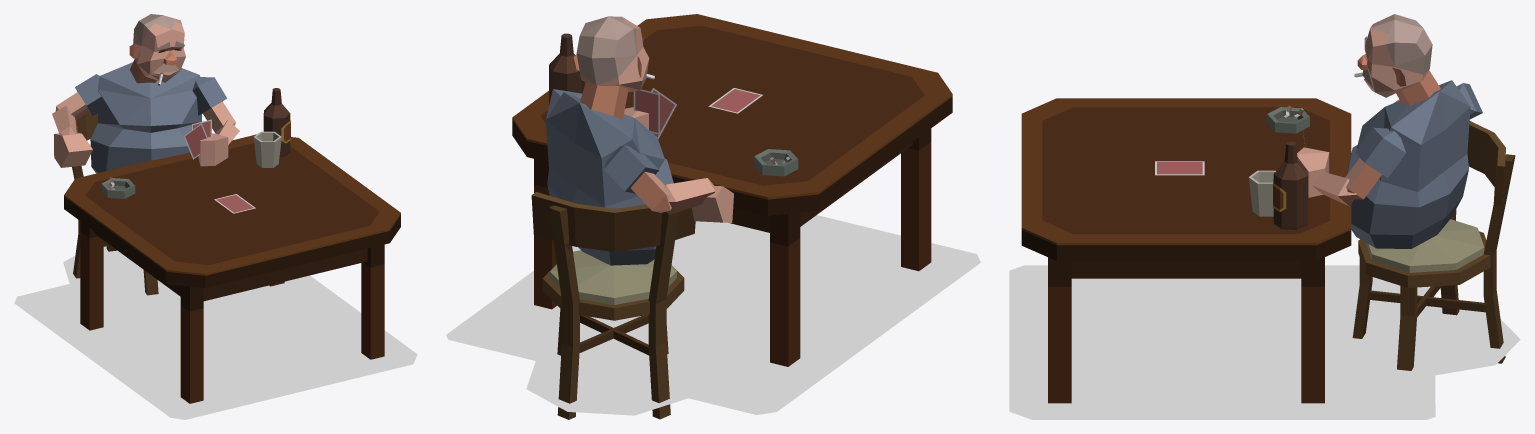
The model's file is Gameplay_Assets.fbx.
3 views of the same model, side by side, from view 1: azimuth 30°, elevation 25°; view 2: azimuth 150°, elevation 25°; view 3: azimuth 270°, elevation 25° (orthographic). The views are drawn at different scales.
Visible parts, largest first — view 1: Mesh_GameplayTable01, Mesh_GameplayGroundShadow, Mesh_Character01, Mesh_GameplayChair01, Mesh_Beer01, Mesh_Glass01, Mesh_BarAshtray01, Mesh_Card01.001, Mesh_Card01; view 2: Mesh_GameplayTable01, Mesh_GameplayGroundShadow, Mesh_Character01, Mesh_GameplayChair01, Mesh_Beer01, Mesh_BarAshtray01, Mesh_Card01.002, Mesh_Card01; view 3: Mesh_GameplayTable01, Mesh_GameplayGroundShadow, Mesh_Character01, Mesh_GameplayChair01, Mesh_Beer01, Mesh_Glass01, Mesh_BarAshtray01, Mesh_Card01.
Boxes of the visible parts, x1,y1,x2,y2 form: Mesh_GameplayTable01: (64,134,400,403); Mesh_GameplayGroundShadow: (14,246,417,419); Mesh_Character01: (52,14,239,173); Mesh_GameplayChair01: (72,112,158,295); Mesh_Beer01: (263,88,290,157); Mesh_Glass01: (253,131,281,167); Mesh_BarAshtray01: (101,177,135,198); Mesh_Card01.001: (183,123,207,159); Mesh_Card01: (214,194,255,213); Mesh_GameplayTable01: (512,14,952,366); Mesh_GameplayGroundShadow: (446,215,980,415); Mesh_Character01: (546,16,733,265); Mesh_GameplayChair01: (531,192,695,419); Mesh_Beer01: (549,33,584,105); Mesh_BarAshtray01: (754,149,798,176); Mesh_Card01.002: (633,89,659,134); Mesh_Card01: (708,88,762,113); Mesh_GameplayTable01: (1021,98,1351,403); Mesh_GameplayGroundShadow: (1009,265,1520,419); Mesh_Character01: (1297,14,1482,248); Mesh_GameplayChair01: (1352,121,1515,370); Mesh_Beer01: (1273,141,1307,229); Mesh_Glass01: (1248,170,1275,216); Mesh_BarAshtray01: (1267,105,1309,133); Mesh_Card01: (1155,161,1204,175).
Bounding box in the file's own units: 16.98 × 23.73 × 17.71.
